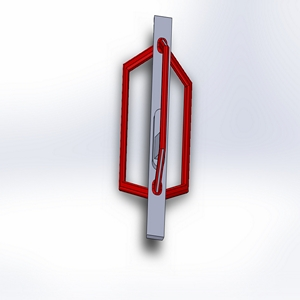submarine: (103, 1, 207, 249)
